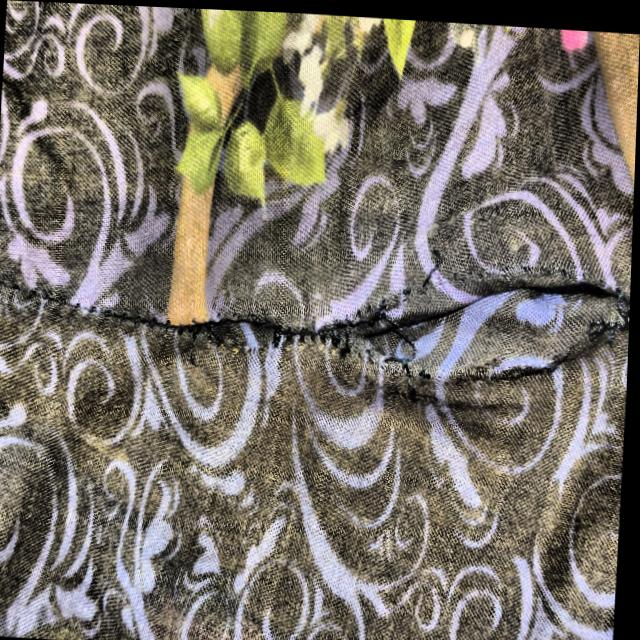seam: (184, 224, 634, 420)
